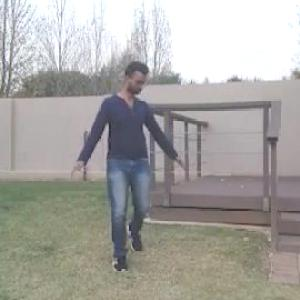land: (76, 53, 184, 278)
